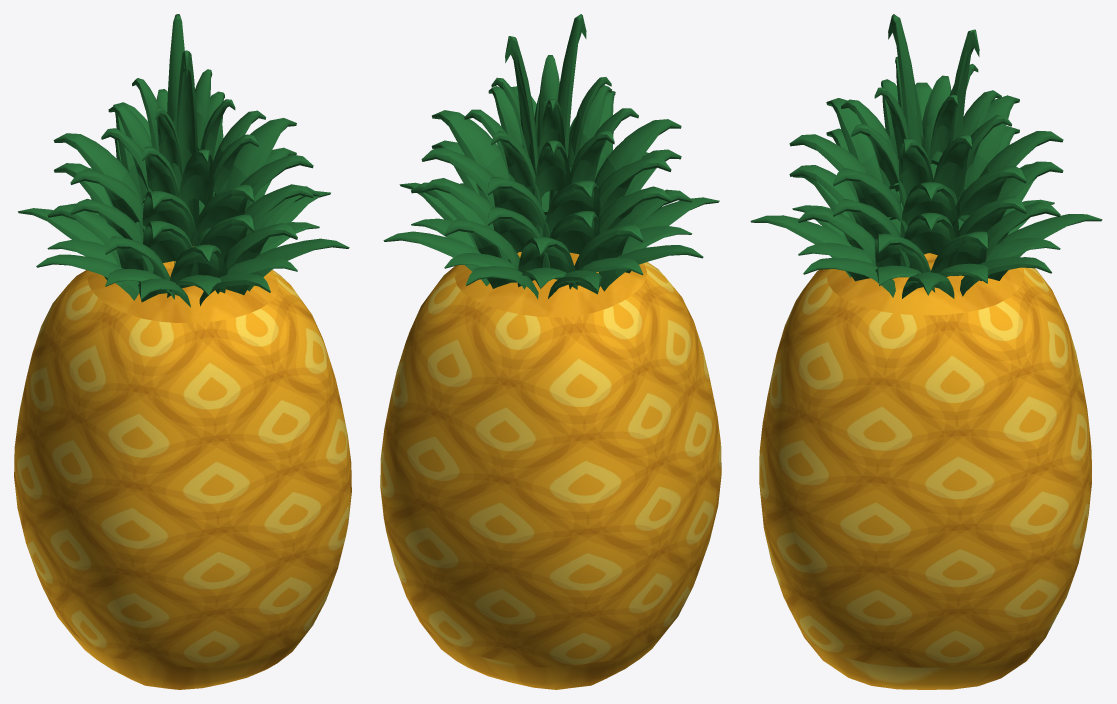
File: pineapple2.fbx
The picture shows the model from 3 angles, left to right: view 1: azimuth 30°, elevation 25°; view 2: azimuth 150°, elevation 25°; view 3: azimuth 270°, elevation 25°; orthographic projection. The views are drawn at different scales.
Parts seen in each view (by area): view 1: Cube, pCube57, pCube37, pCube40, pCube42, pCube43, pCube34, pCube51, pCube41, pCube27, pCube26, pCube35 (+27 smaller); view 2: Cube, pCube37, pCube42, pCube56, pCube40, pCube39, pCube57, pCube32, pCube48, pCube24, pCube31, pCube41 (+28 smaller); view 3: Cube, pCube37, pCube57, pCube29, pCube36, pCube38, pCube42, pCube40, pCube45, pCube46, pCube21, pCube22 (+26 smaller).
Part boxes in pixels (x1,y1,x2,y2): Cube: (14, 246, 351, 689); pCube57: (174, 50, 199, 264); pCube37: (214, 118, 296, 206); pCube40: (53, 133, 142, 209); pCube42: (142, 191, 198, 246); pCube43: (191, 184, 254, 246); pCube34: (143, 221, 198, 275); pCube51: (178, 149, 213, 205); pCube41: (70, 169, 145, 230); pCube27: (167, 244, 225, 297); pCube26: (105, 236, 174, 299); pCube35: (190, 214, 254, 276); Cube: (380, 252, 721, 689); pCube37: (432, 110, 509, 202); pCube42: (594, 119, 681, 200); pCube56: (505, 36, 542, 236); pCube40: (542, 180, 599, 237); pCube39: (487, 176, 549, 237); pCube57: (549, 14, 586, 234); pCube32: (542, 211, 599, 267); pCube48: (534, 140, 571, 200); pCube24: (518, 237, 577, 289); pCube31: (487, 207, 550, 267); pCube41: (598, 156, 671, 211); Cube: (759, 253, 1091, 689); pCube37: (900, 182, 958, 237); pCube57: (888, 14, 921, 145); pCube29: (900, 212, 958, 266); pCube36: (833, 168, 907, 232); pCube38: (952, 166, 1026, 228); pCube42: (826, 98, 899, 189); pCube40: (963, 95, 1019, 190); pCube45: (898, 138, 933, 203); pCube46: (933, 134, 971, 197); pCube21: (875, 233, 934, 292); pCube22: (931, 231, 988, 281).
Size of the model in its own units: 200 by 404 by 200.
